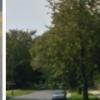cars: (53, 88, 66, 100)
